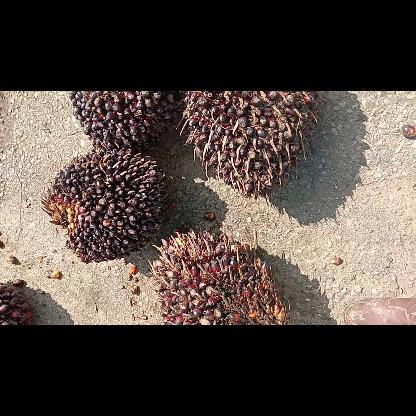TBS mentah: (174, 90, 326, 200), (40, 148, 170, 262), (148, 228, 294, 324), (68, 91, 180, 149)
